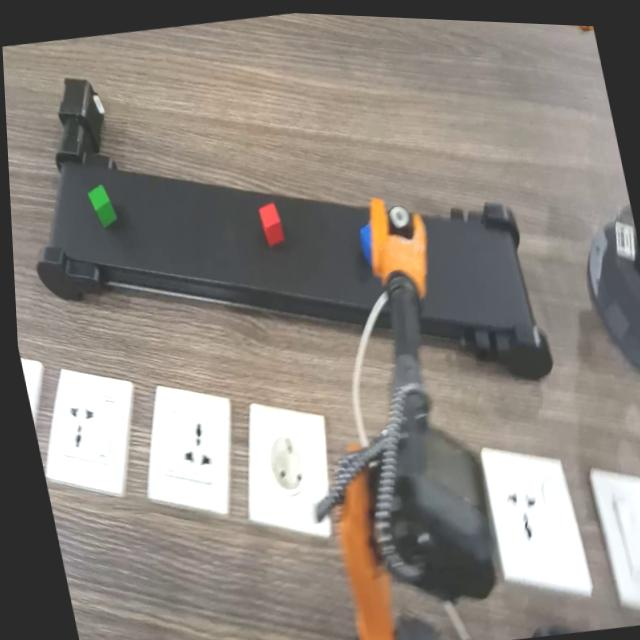cube: (73, 176, 118, 234), (252, 194, 287, 248)
